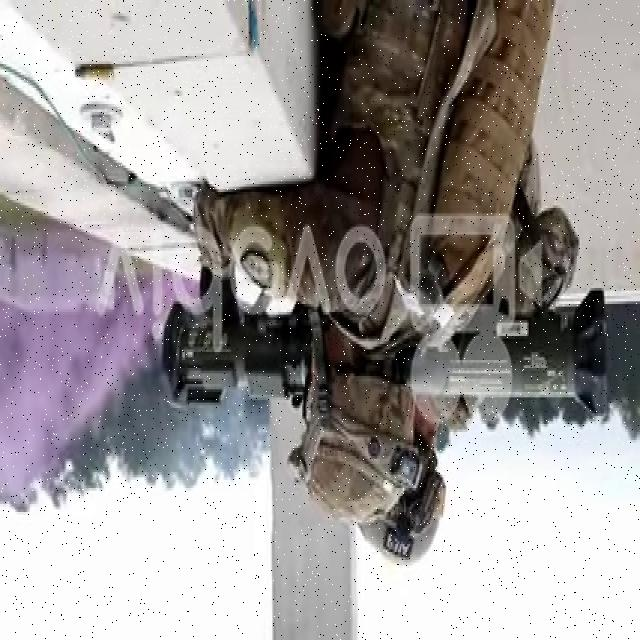bazooka: (159, 284, 616, 428)
